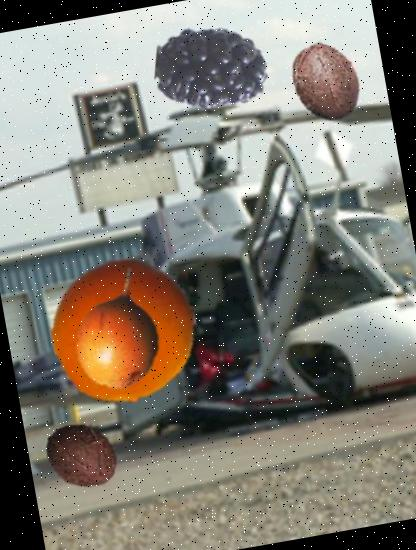Cocos: (279, 34, 375, 130), (38, 412, 124, 499)
Granadilla: (49, 256, 194, 401)
Grapefruit: (40, 246, 208, 414)
Mulberry: (146, 2, 277, 133)
